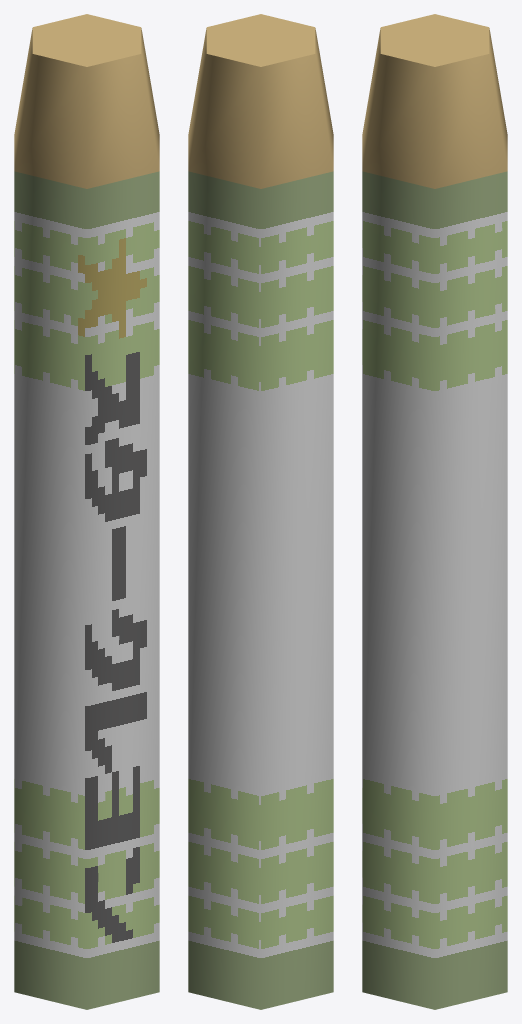
File: 0336_Ochre_Crayon.glb
3 renders of one model, left to right at view 1: azimuth 30°, elevation 25°; view 2: azimuth 150°, elevation 25°; view 3: azimuth 270°, elevation 25°, orthographic.
Visible parts, largest first — view 1: part_0; view 2: part_0; view 3: part_0.
Boxes of the visible parts, x1,y1,x2,y2 form: part_0: (14, 14, 159, 1009); part_0: (188, 14, 333, 1009); part_0: (362, 14, 507, 1009).
Size of the model in its own units: 0.014 by 0.0858 by 0.0121.
1 material, 1 textured.
